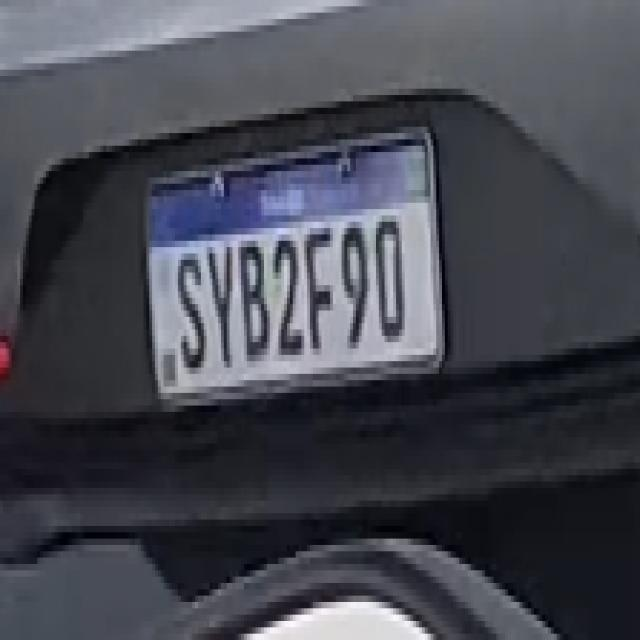Placa_mercosul_carro: (145, 124, 446, 417)
